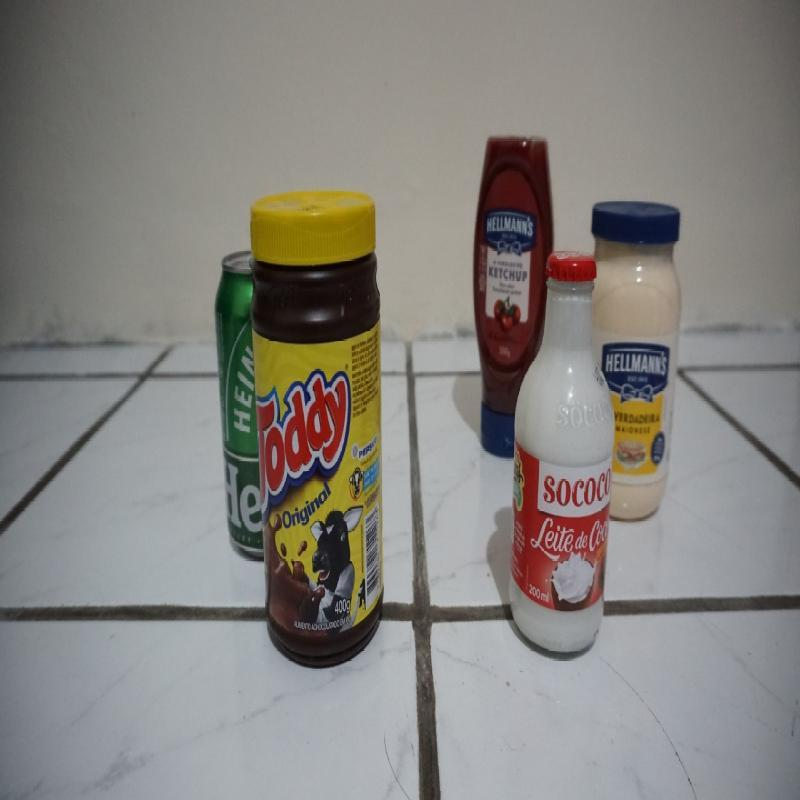Beer can: (212, 248, 258, 566)
Chocolate Powder: (255, 195, 384, 656)
Coconut Milk: (519, 249, 610, 654)
Ketchup: (471, 130, 511, 454)
Mayonnaise: (614, 196, 684, 526)
